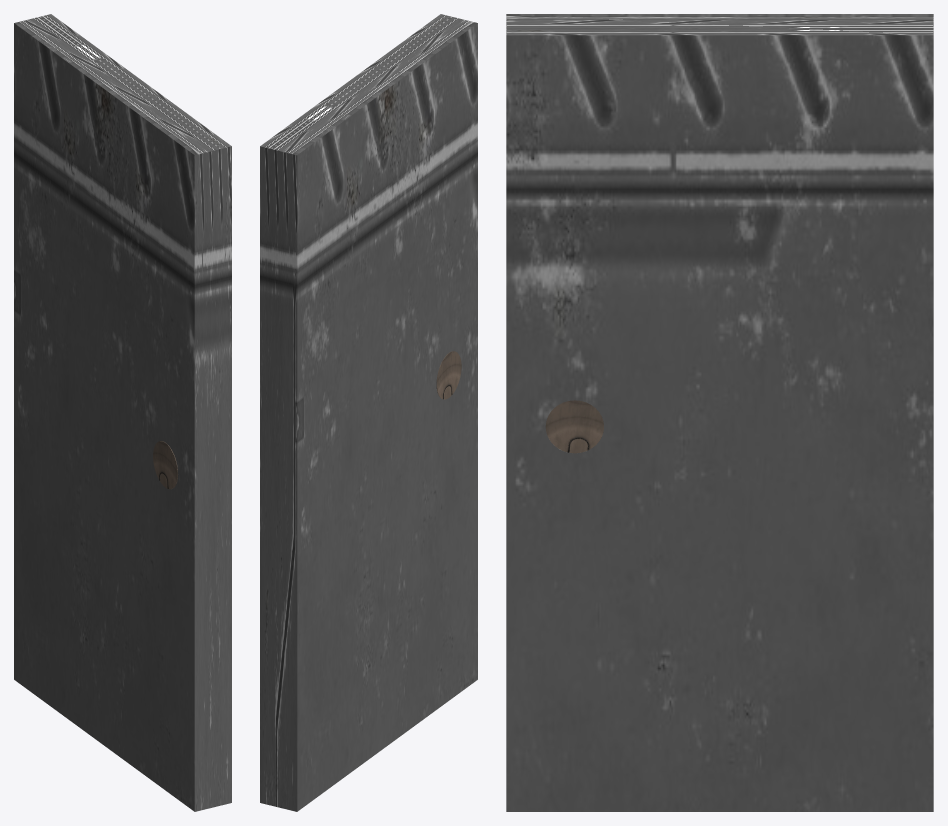
File: PortaInterna.fbx
3 renders of one model, left to right at view 1: azimuth 30°, elevation 25°; view 2: azimuth 150°, elevation 25°; view 3: azimuth 270°, elevation 25°, orthographic. The views are drawn at different scales.
Parts seen in each view (by area): view 1: Cube.001, Cylinder.002; view 2: Cube.001, Cylinder.002; view 3: Cube.001, Cylinder.001.
Part boxes in pixels (bbox=[...]): Cube.001: bbox=[14, 14, 231, 811]; Cylinder.002: bbox=[153, 441, 178, 489]; Cube.001: bbox=[260, 14, 477, 811]; Cylinder.002: bbox=[436, 351, 461, 399]; Cube.001: bbox=[506, 14, 933, 811]; Cylinder.001: bbox=[545, 400, 603, 453].
Bounding box in the file's own units: 28.89 × 484 × 241.
Materials: 3 (3 with a texture image).
